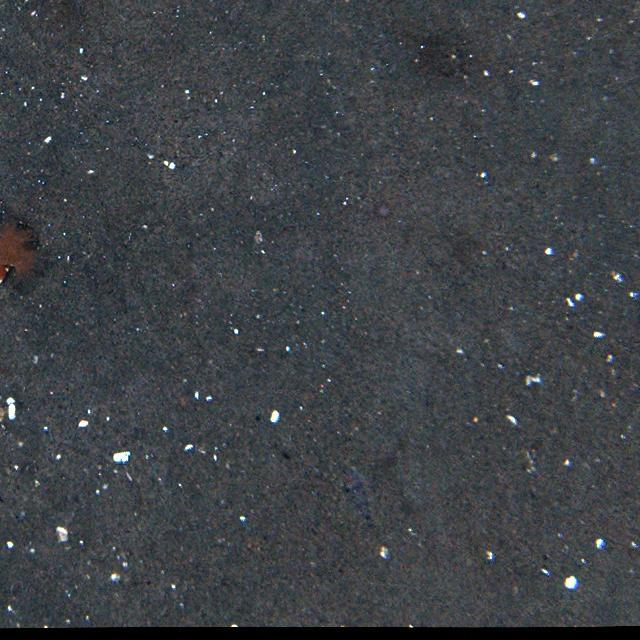flatfish: (332, 458, 380, 530)
